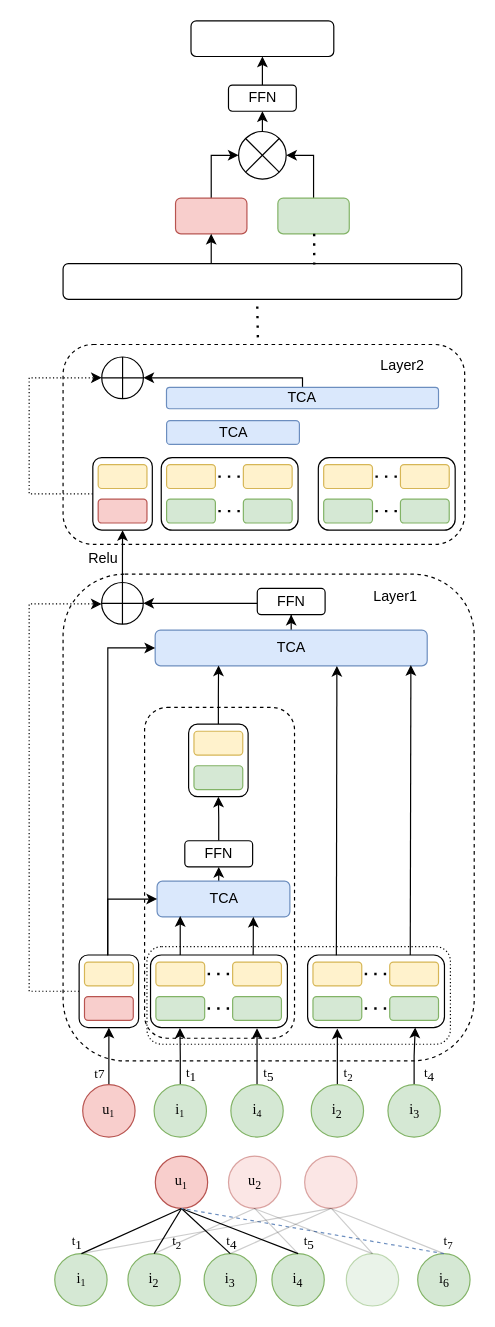
Some shapes in this 495 by 1327 pixel diagram are drawn without their labels. The centre of each missing label's shape, as x and y in pixels:
"BPR Loss" goes at (x=262, y=38).
"i 5" goes at (x=372, y=1279).
"TCL-Layer" goes at (x=262, y=280).
"u 3" goes at (x=330, y=1181).
